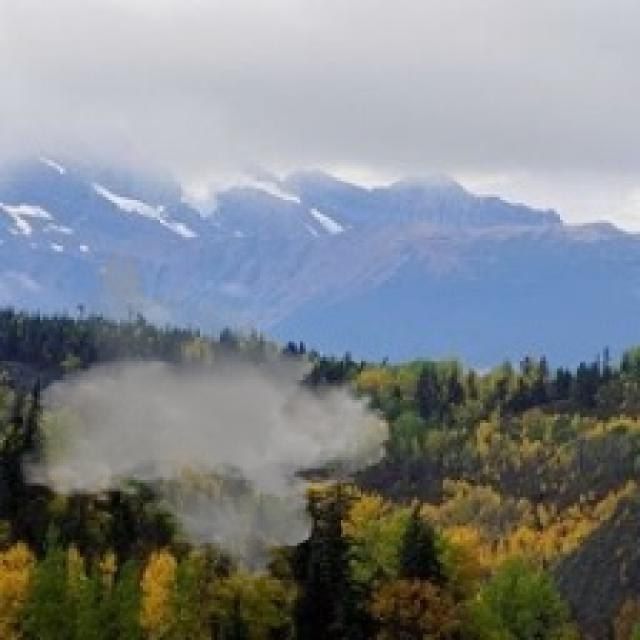smoke: (17, 246, 392, 591)
